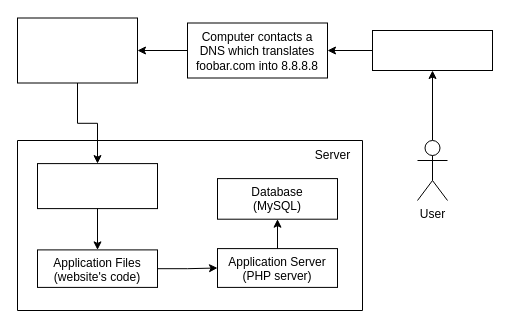
Image size: 510x328. Some labels were removed from this diagram. The shapes that lost their labels are listed below. From the top down, each one's centre as x and y in pixels, then its label:
At point (77, 50): "Connection is established with the server using TCP protocol".
At point (432, 50): "Tries to access https://foobar.com".
At point (97, 186): "Web Server (NGINX)".
